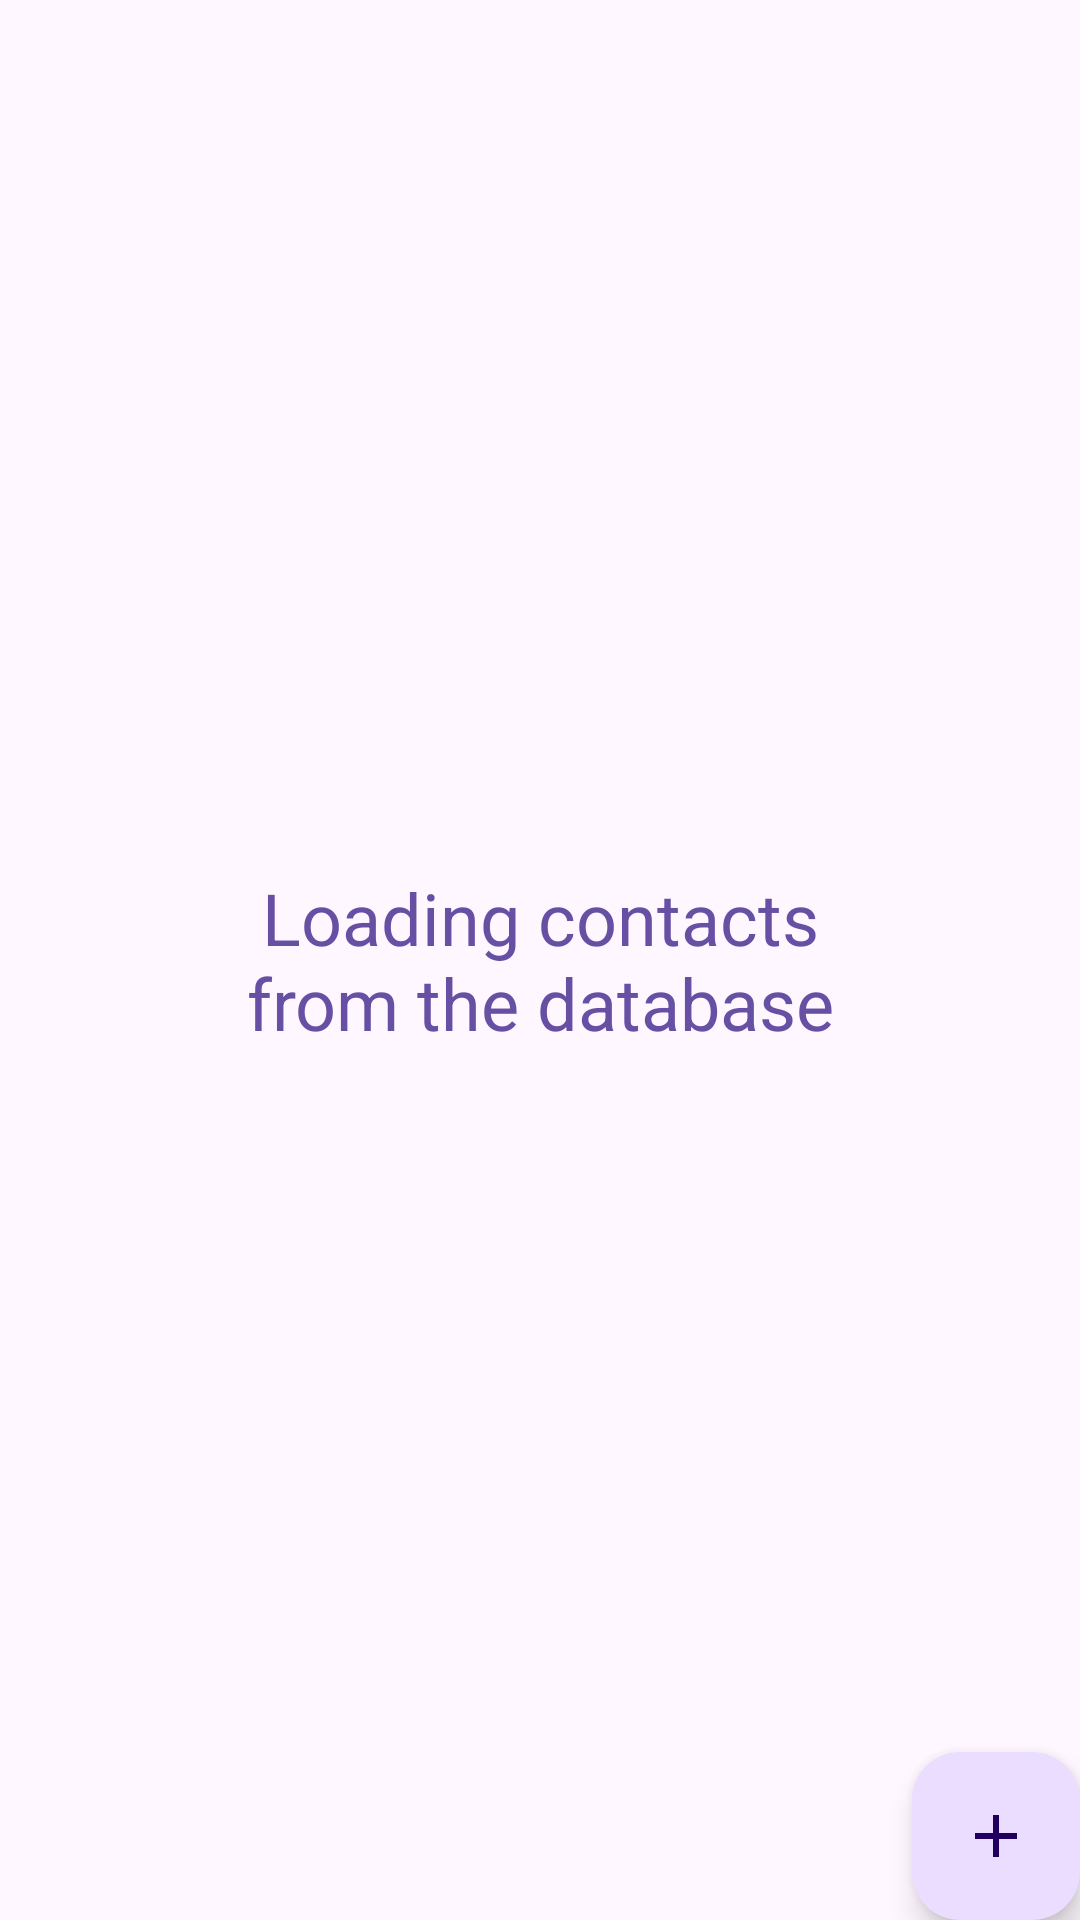

Where to tap for icons on this 1080px x 1920px app screen, as (x,y):
New contact: (996,1836)
